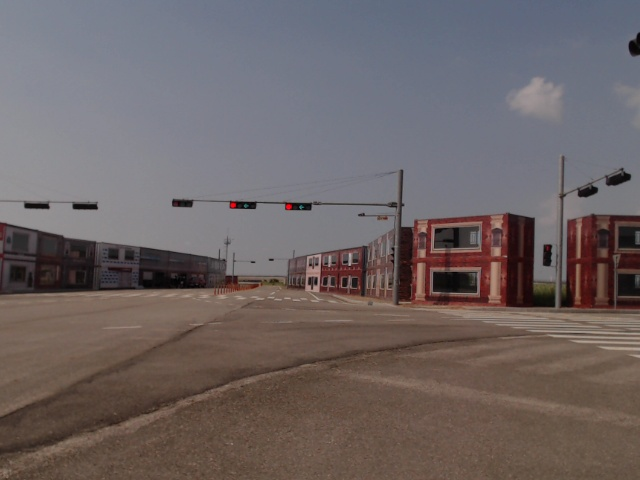left_green_4: (228, 201, 256, 210), (285, 203, 312, 212)
